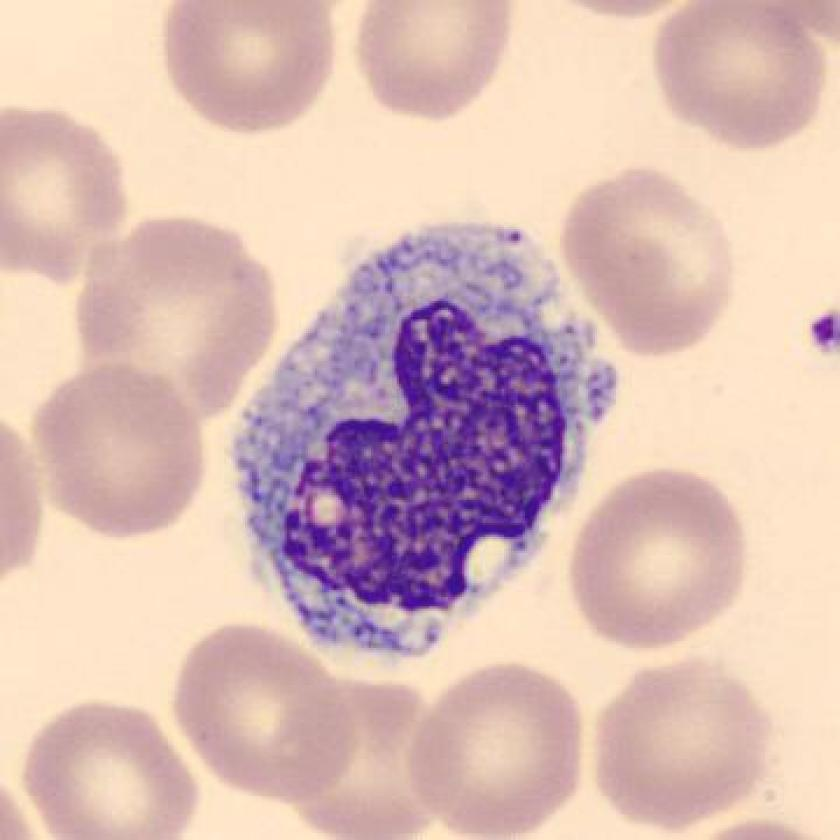monocyte: (216, 198, 631, 684)
